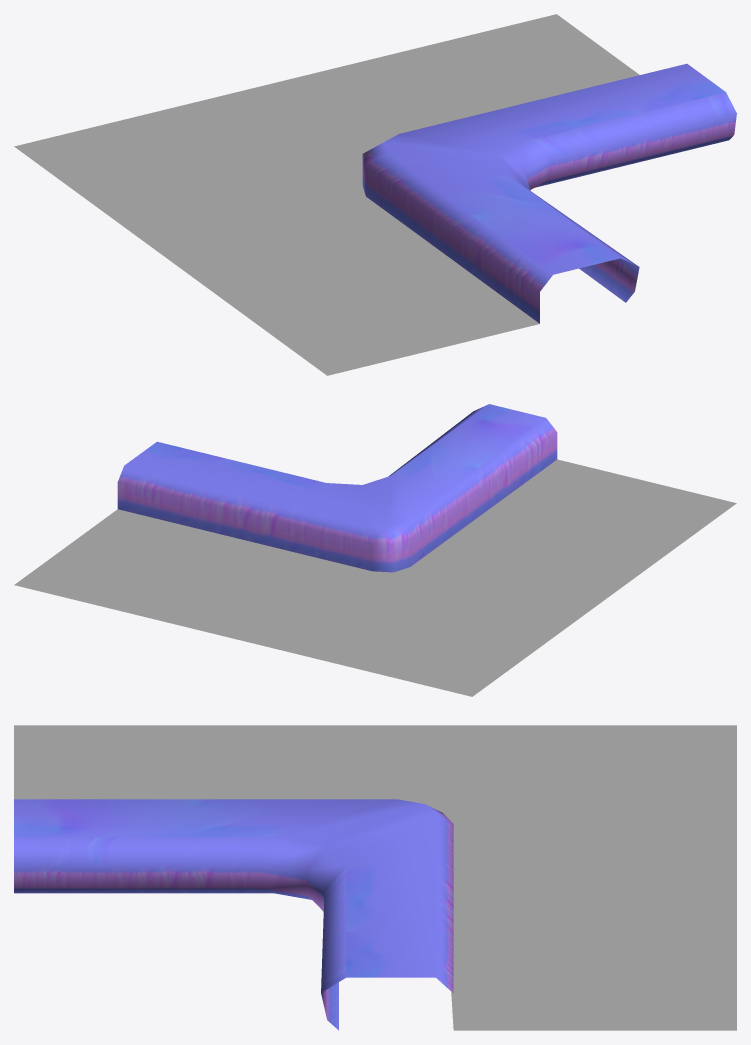
Rendered from sm_roof_03.fbx.
3 renders of one model, top to bottom at view 1: azimuth 30°, elevation 25°; view 2: azimuth 150°, elevation 25°; view 3: azimuth 270°, elevation 25°, orthographic. The views are drawn at different scales.
Parts seen in each view (by area): view 1: sm_roof_03; view 2: sm_roof_03; view 3: sm_roof_03.
Boxes of the visible parts, x1,y1,x2,y2 form: sm_roof_03: (14,14,736,375); sm_roof_03: (14,404,736,696); sm_roof_03: (14,725,736,1030).
Bounding box in the file's own units: 182 × 14.7 × 182.
